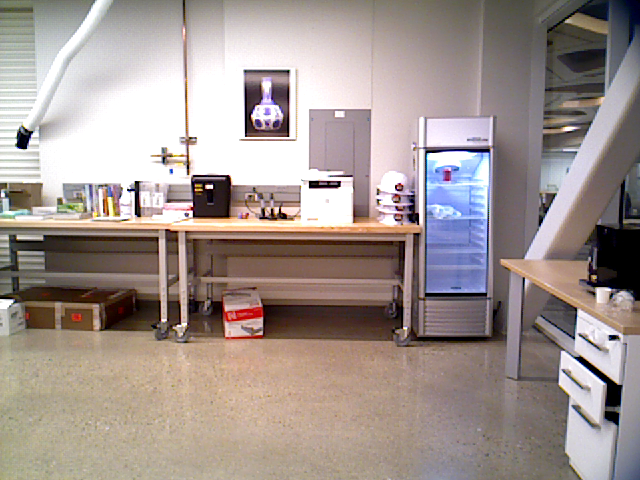painting2: (239, 65, 297, 142)
